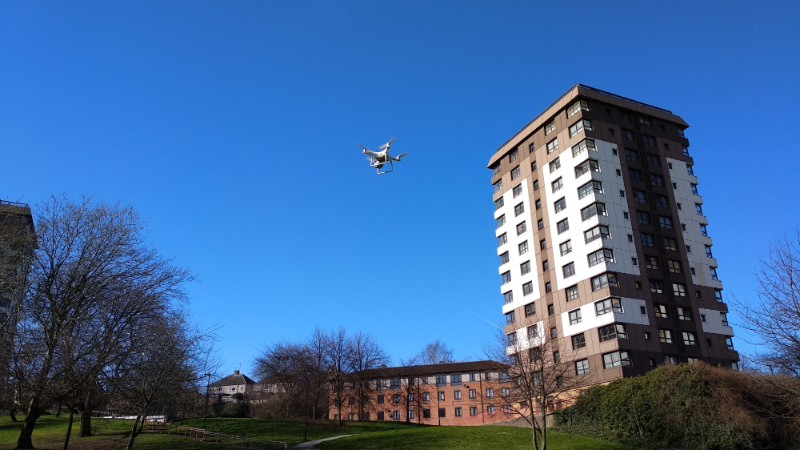drone: (357, 137, 411, 178)
